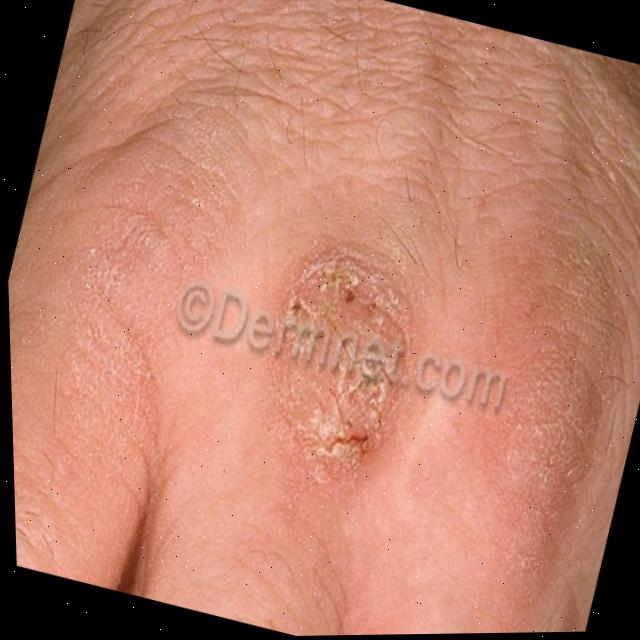Eczema: (210, 212, 432, 500)
